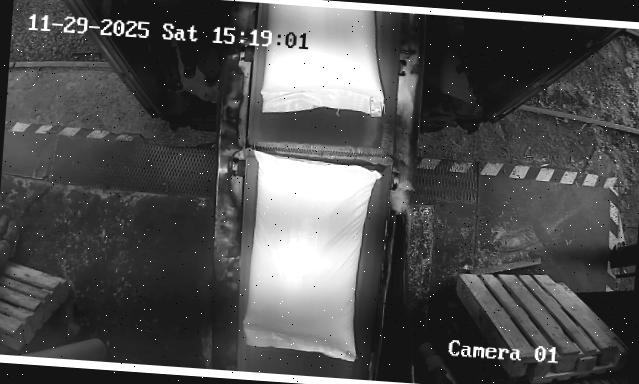bag: (239, 150, 384, 362), (259, 2, 392, 121)
